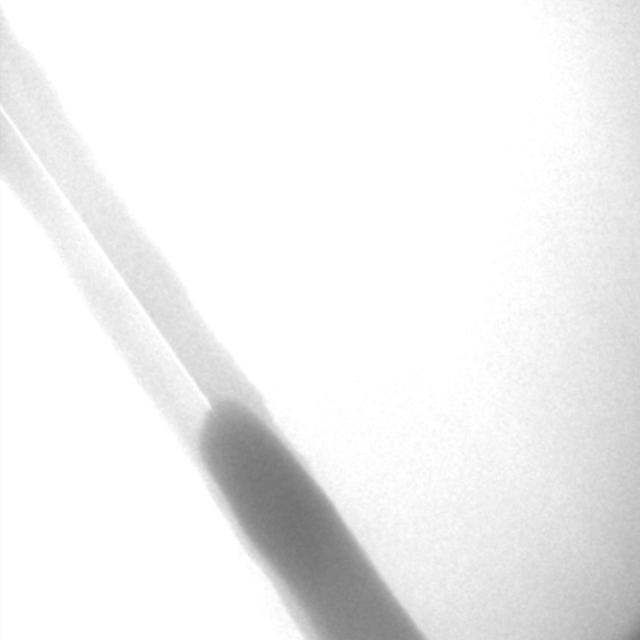broken arc: (1, 107, 212, 412)
